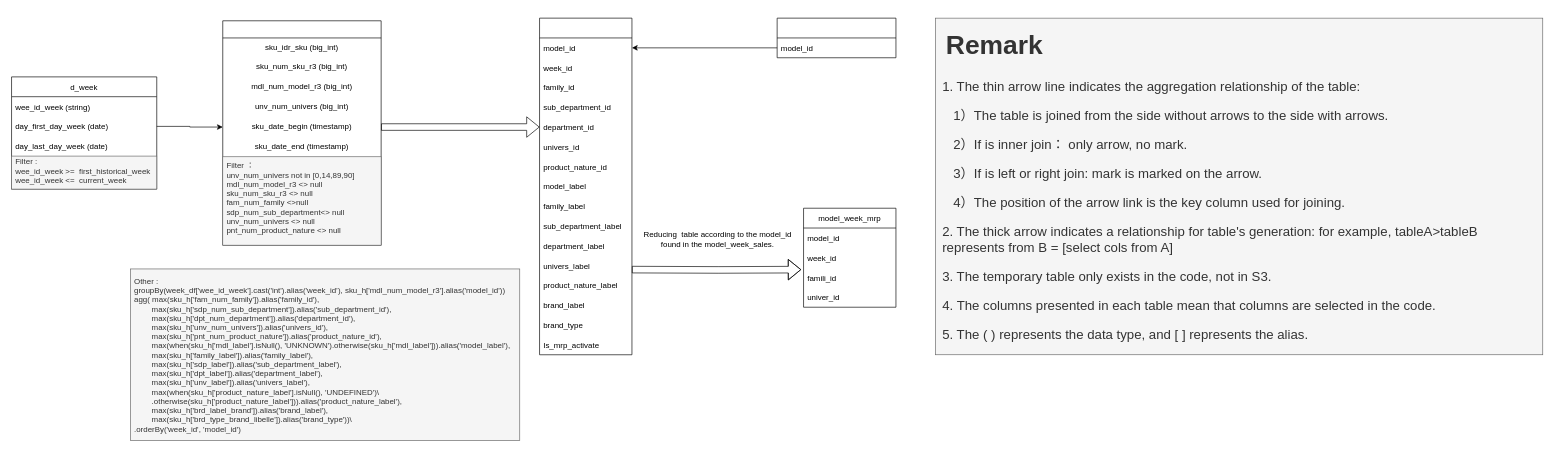
This 1554x452 diagram has some shape labels left out. Here are the shapes that lost their labels. From the top down, the box of each, then its label:
(776, 17, 896, 58): list_models_df (tmp)
(222, 20, 381, 245): d_sku_h
(539, 17, 632, 355): model_week_tree
